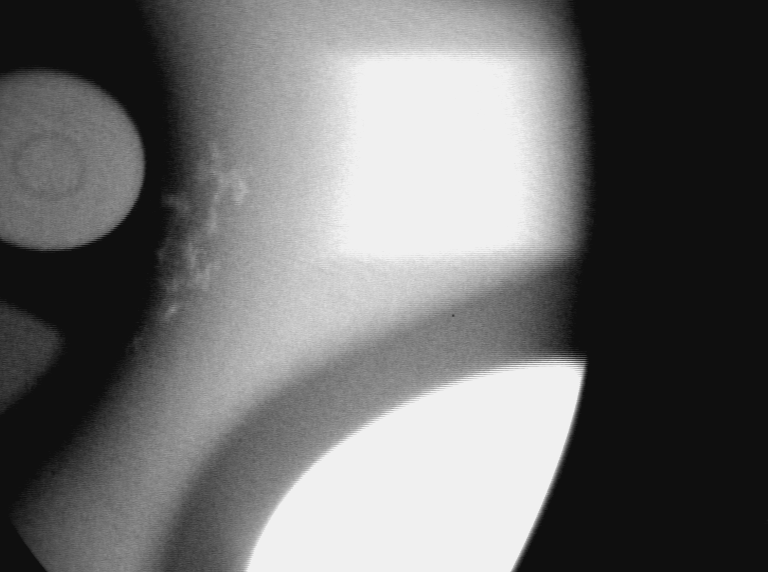defect: (128, 325, 150, 358)
